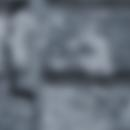brick: (40, 12, 129, 76), (41, 87, 129, 129), (0, 96, 34, 129), (0, 0, 28, 3), (78, 0, 96, 1)
broken_brick: (8, 11, 34, 75), (0, 55, 6, 79), (0, 16, 4, 44)
crack: (0, 2, 36, 127), (46, 31, 59, 73)
